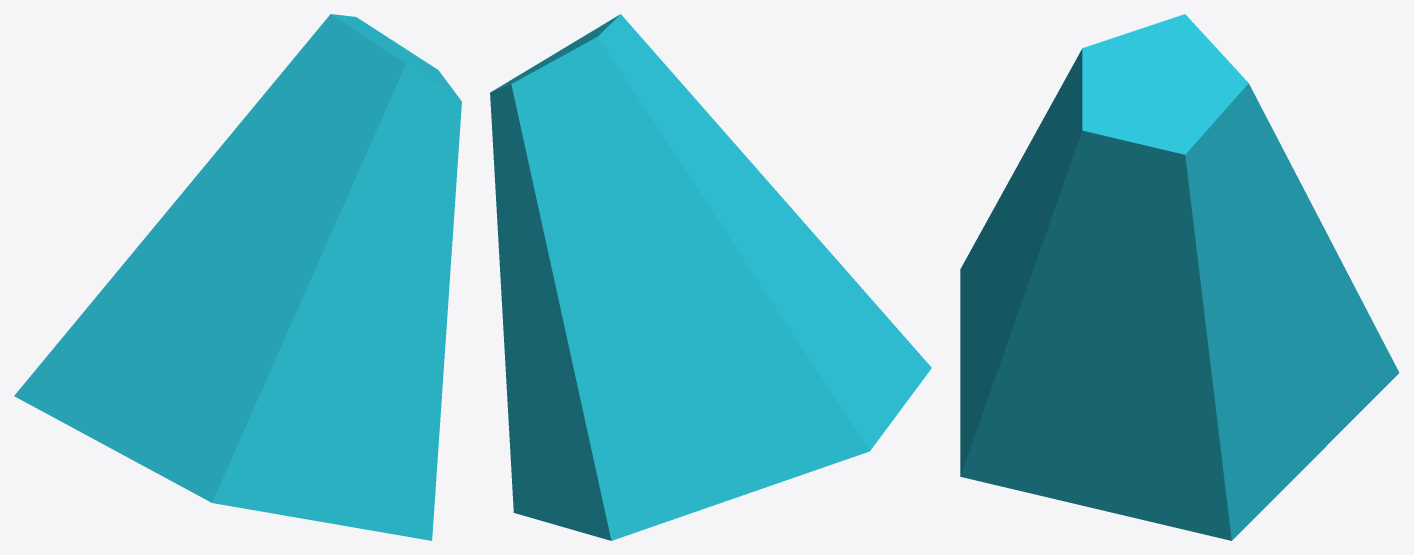
The model's file is WateringCanWater.fbx.
3 views of the same model, side by side, from view 1: azimuth 30°, elevation 25°; view 2: azimuth 150°, elevation 25°; view 3: azimuth 270°, elevation 25° (orthographic). The views are drawn at different scales.
Visible parts, largest first — view 1: Water; view 2: Water; view 3: Water.
Boxes of the visible parts, left/top/right/bottom form: Water: left=14, top=14, right=461, bottom=540; Water: left=490, top=14, right=931, bottom=540; Water: left=960, top=14, right=1399, bottom=540.
Bounding box in the file's own units: 10.54 × 11.89 × 9.55.
